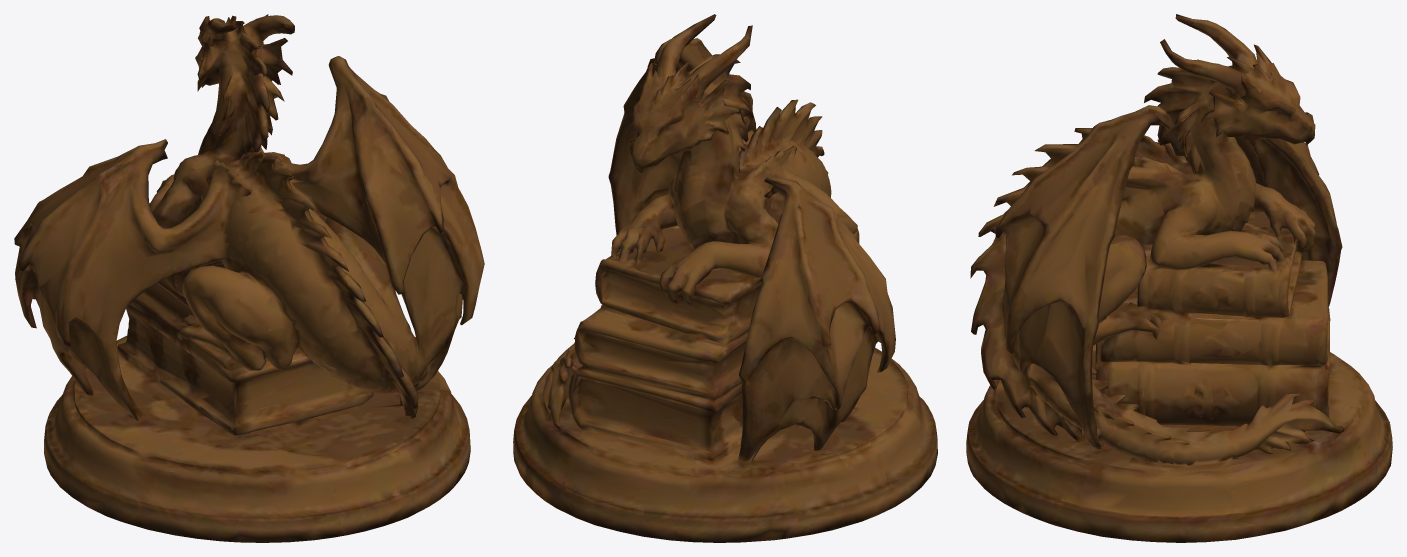
File: fantasy.glb
The picture shows the model from 3 angles, left to right: view 1: azimuth 30°, elevation 25°; view 2: azimuth 150°, elevation 25°; view 3: azimuth 270°, elevation 25°; orthographic projection.
Visible parts, largest first — view 1: tripo_node_a73373a4-3adb-4e28-bc3e-f4b4411274f1; view 2: tripo_node_a73373a4-3adb-4e28-bc3e-f4b4411274f1; view 3: tripo_node_a73373a4-3adb-4e28-bc3e-f4b4411274f1.
Part boxes in pixels (box(x1,y1,x2,y2)): tripo_node_a73373a4-3adb-4e28-bc3e-f4b4411274f1: box(14, 14, 484, 542); tripo_node_a73373a4-3adb-4e28-bc3e-f4b4411274f1: box(513, 14, 937, 542); tripo_node_a73373a4-3adb-4e28-bc3e-f4b4411274f1: box(966, 14, 1392, 542).
Bounding box in the file's own units: 0.917 × 1 × 0.9025.
1 material, 1 textured.
